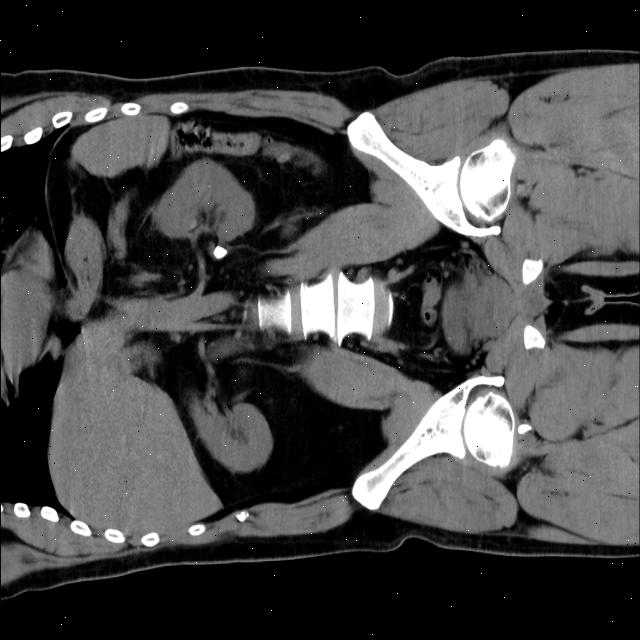kidneystone: (212, 243, 228, 259)
